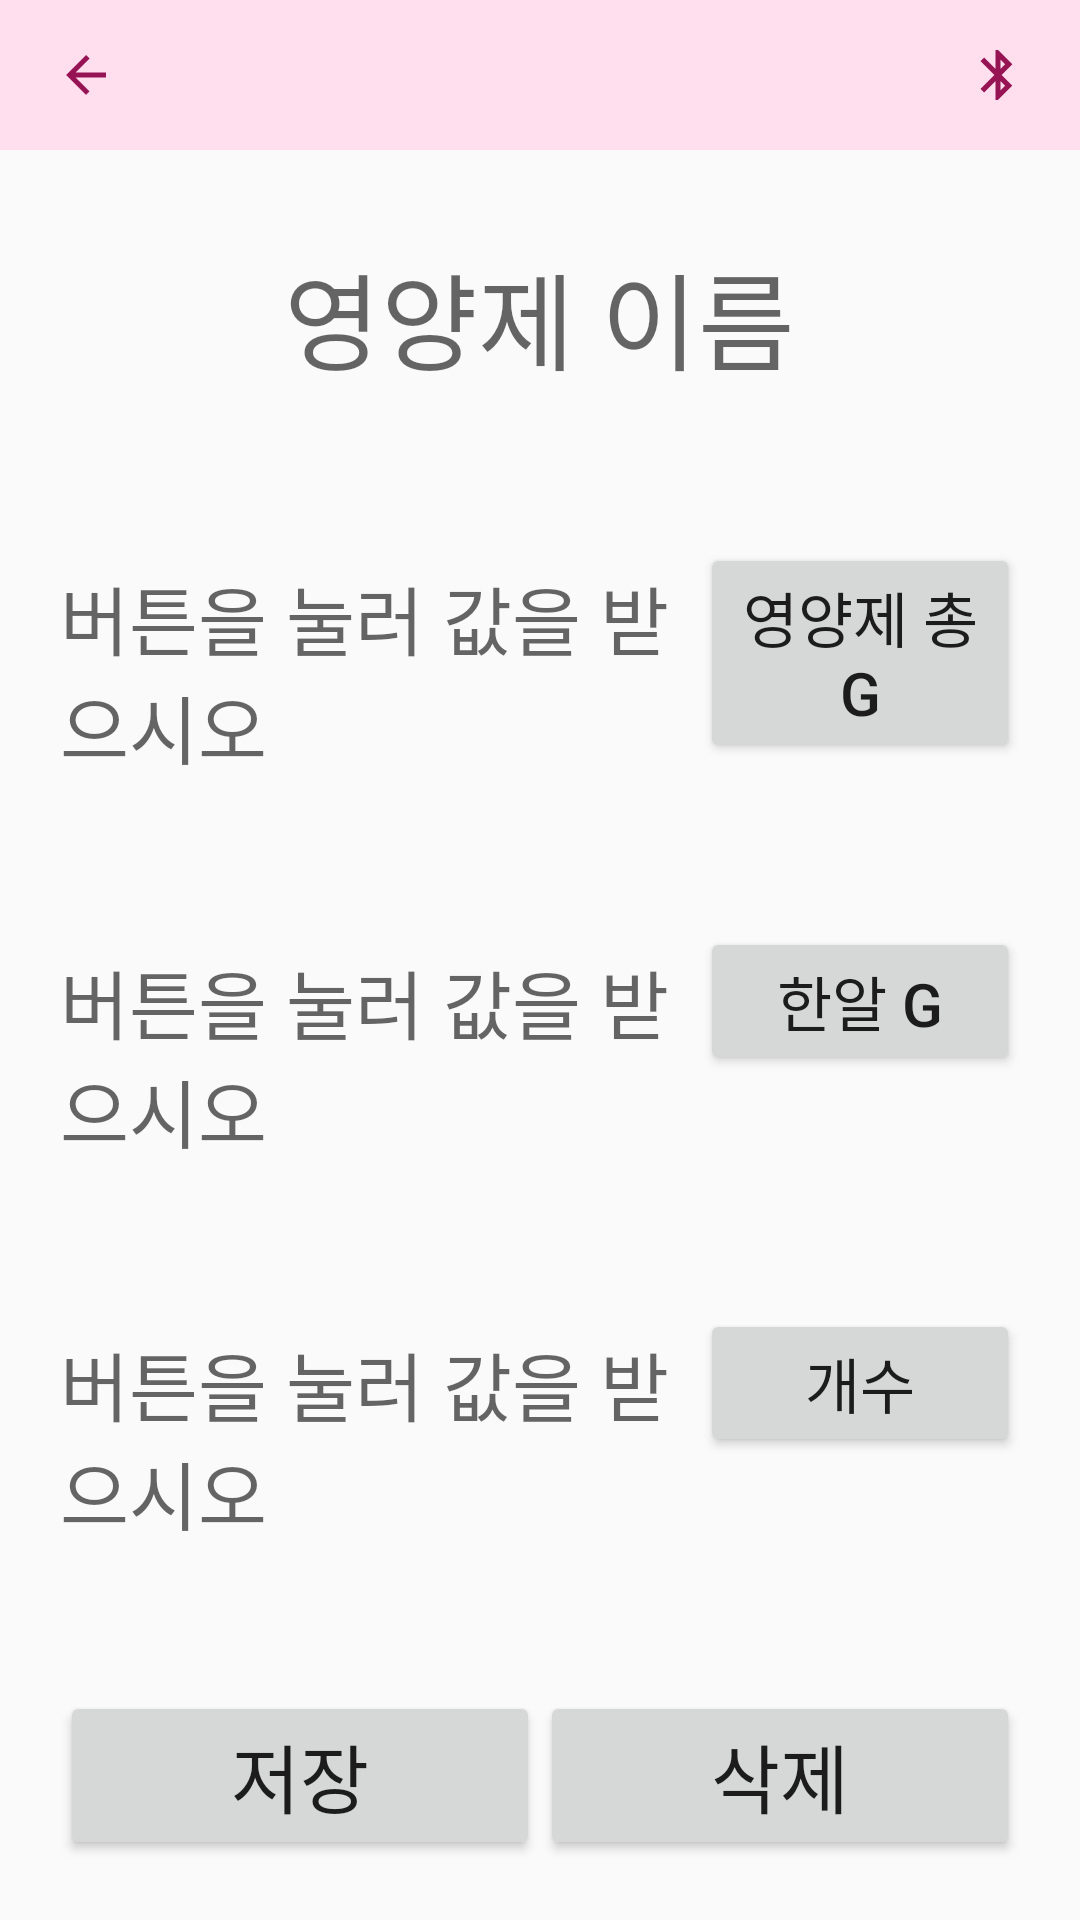

Locate icon controls on the screen. Image size 1080 × 1920, boxes as [x1=x1, y1=y1, x2=x2, y2=y2].
backarrow: [x1=66, y1=55, x2=106, y2=95]
